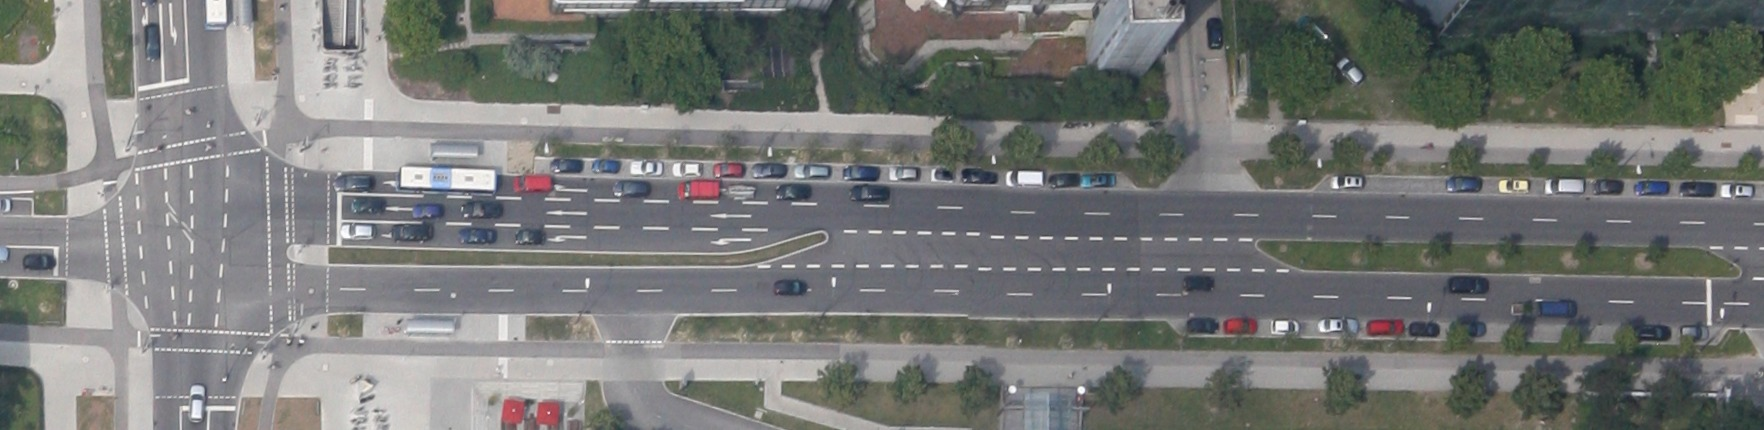car: (1333, 54, 1366, 87), (676, 180, 719, 200), (391, 222, 432, 241), (334, 172, 370, 192), (1537, 299, 1576, 317), (461, 200, 501, 218), (512, 174, 551, 192), (1448, 276, 1489, 293), (849, 183, 888, 201), (1005, 169, 1042, 187), (187, 384, 204, 423), (1543, 177, 1583, 194), (613, 179, 649, 197), (1317, 319, 1358, 334), (350, 195, 384, 213), (458, 227, 496, 243), (21, 253, 56, 270), (775, 183, 810, 200), (1444, 174, 1479, 191), (1366, 319, 1403, 334), (1223, 316, 1257, 333), (144, 24, 160, 60), (841, 164, 877, 180), (1205, 16, 1222, 48), (340, 223, 373, 239), (962, 168, 996, 183), (1678, 181, 1714, 196), (773, 279, 805, 295), (1186, 316, 1218, 332), (1633, 180, 1668, 195), (794, 163, 828, 178), (1183, 275, 1213, 292), (514, 229, 544, 244), (1639, 324, 1669, 340), (1591, 178, 1621, 194), (751, 162, 784, 177), (629, 160, 661, 174), (1270, 317, 1298, 334), (727, 182, 753, 200), (412, 203, 441, 218), (1408, 320, 1438, 335), (549, 158, 580, 172), (1719, 183, 1753, 197), (1081, 172, 1115, 186), (1497, 178, 1528, 192), (1330, 174, 1362, 188), (1048, 172, 1078, 187), (713, 162, 742, 177), (672, 161, 701, 176), (1678, 325, 1707, 340), (888, 165, 917, 179), (591, 158, 618, 172), (930, 165, 952, 181), (1511, 301, 1531, 315)
